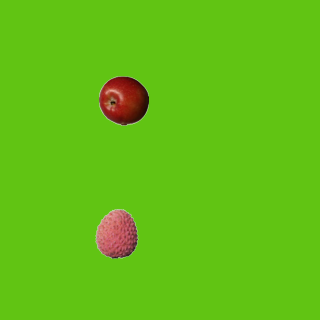Apple Braeburn: (98, 75, 148, 125)
Lychee: (91, 208, 141, 258)
